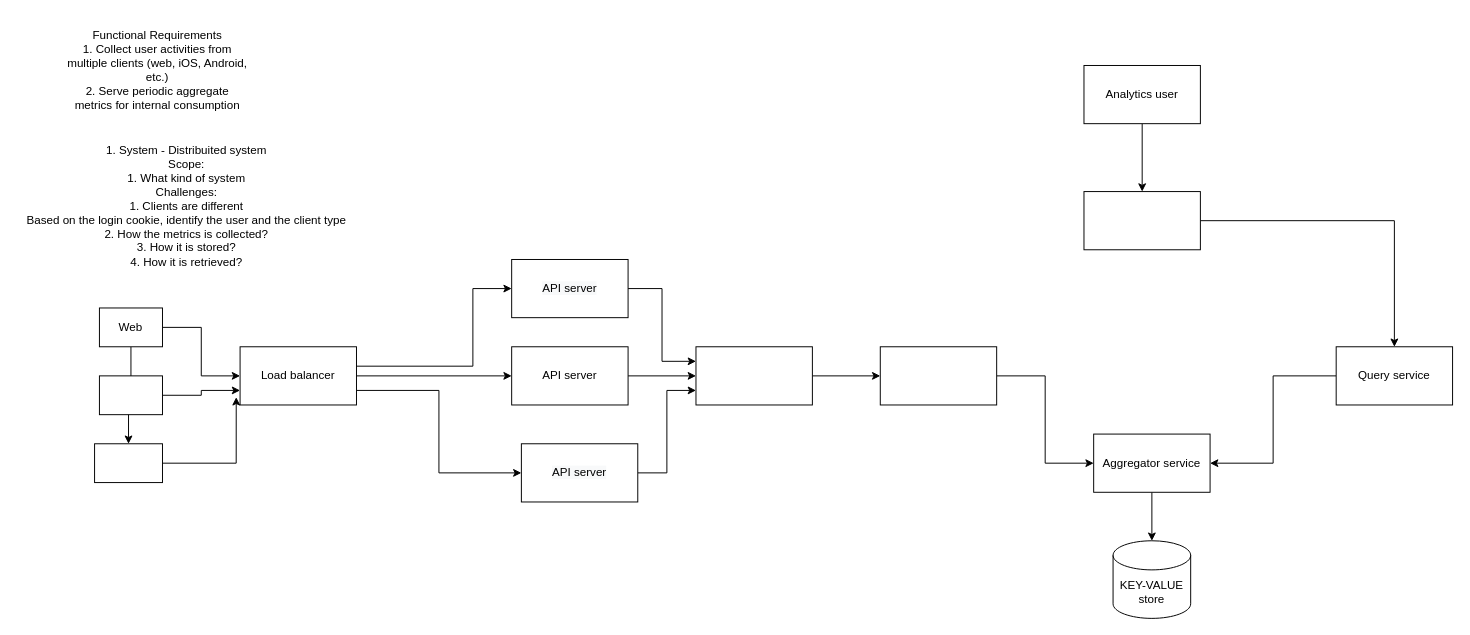
This 1470x635 diagram has some shape labels left out. Here are the shapes that lost their labels. From the top down, the centre of each, then its label:
At point (1141, 220): "Analystics API server".
At point (130, 395): "IOS".
At point (753, 375): "Message Queue".
At point (938, 375): "Collector service".
At point (128, 463): "Andriod".
